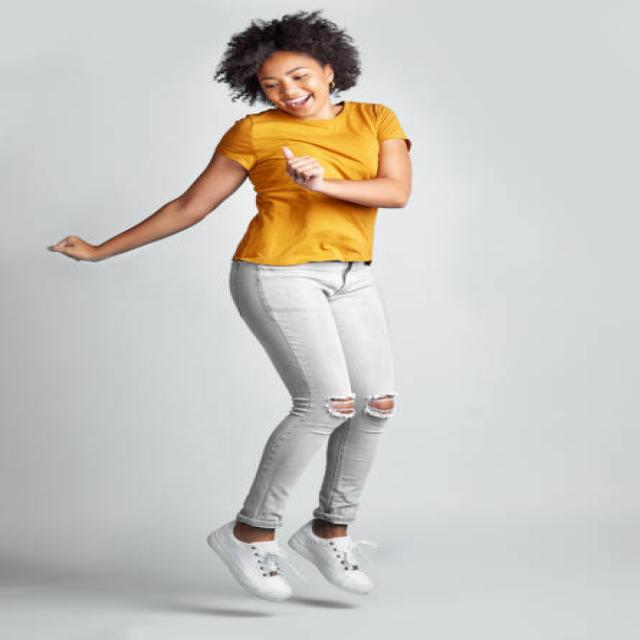Edited images: (37, 5, 453, 613)
